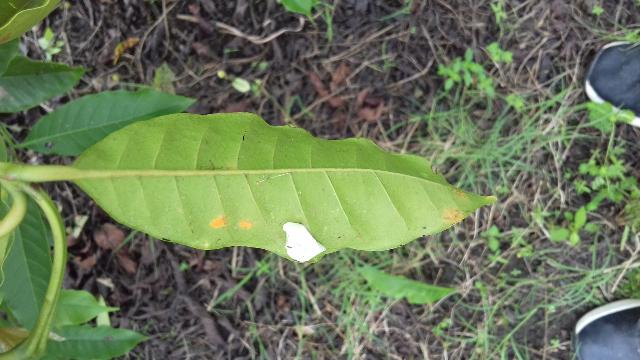rust_level_1: (33, 107, 504, 265)
